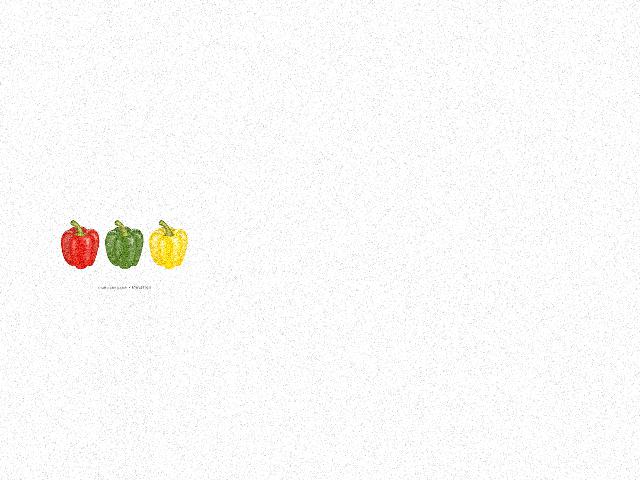bell_pepper: (146, 221, 189, 273)
